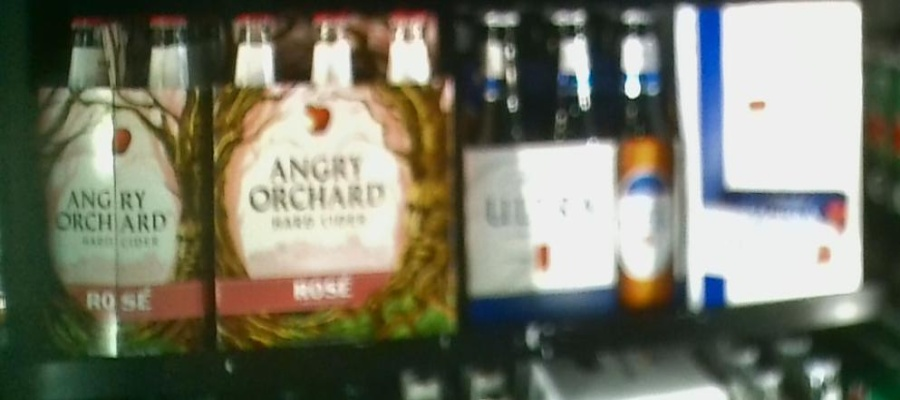bottle: (214, 10, 462, 341), (466, 6, 676, 317), (29, 9, 208, 358), (680, 6, 865, 301)
